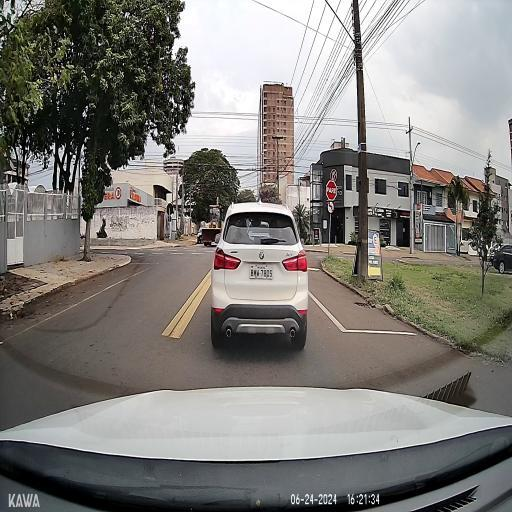R-1: (326, 180, 337, 200)
R-24a: (327, 202, 334, 214)
